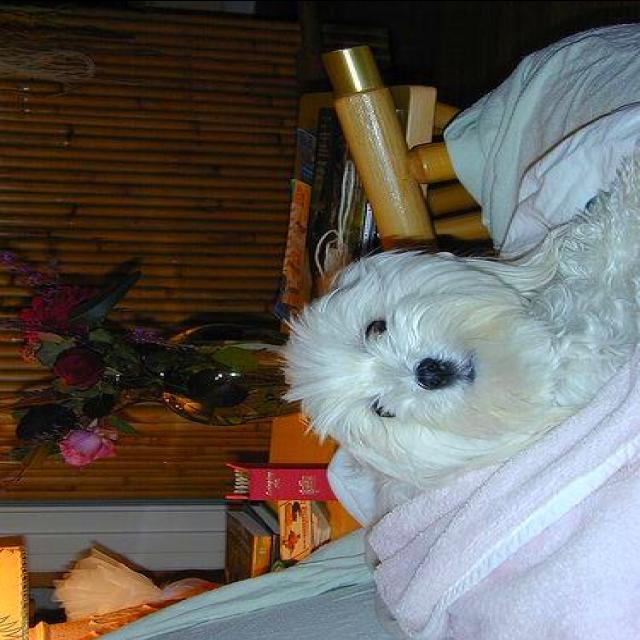maltese_dog: (282, 140, 638, 487)
